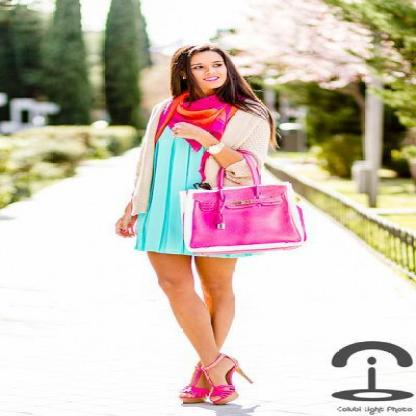bag: (172, 139, 306, 262)
dress: (135, 142, 205, 253)
jacket: (122, 97, 274, 207)
shoe: (180, 364, 234, 405)
